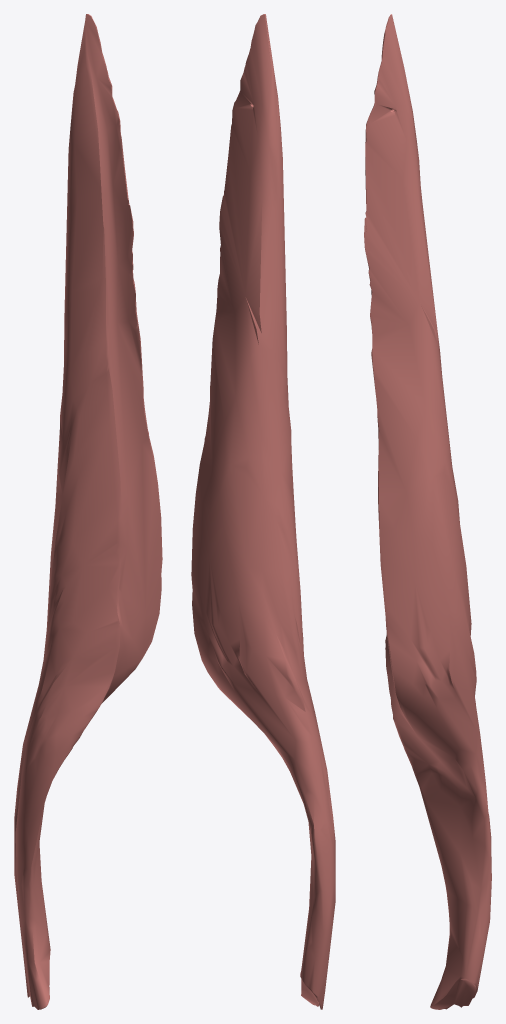
File: fma45891_fj1444.glb
The picture shows the model from 3 angles, left to right: view 1: azimuth 30°, elevation 25°; view 2: azimuth 210°, elevation 25°; view 3: azimuth 270°, elevation 25°; orthographic projection. The views are drawn at different scales.
Parts seen in each view (by area): view 1: FMA45891_FJ1444; view 2: FMA45891_FJ1444; view 3: FMA45891_FJ1444.
Boxes of the visible parts, x1,y1,x2,y2 form: FMA45891_FJ1444: (14, 14, 162, 1009); FMA45891_FJ1444: (191, 14, 335, 1009); FMA45891_FJ1444: (364, 14, 491, 1009).
Size of the model in its own units: 0.0367 by 0.3184 by 0.0366.
